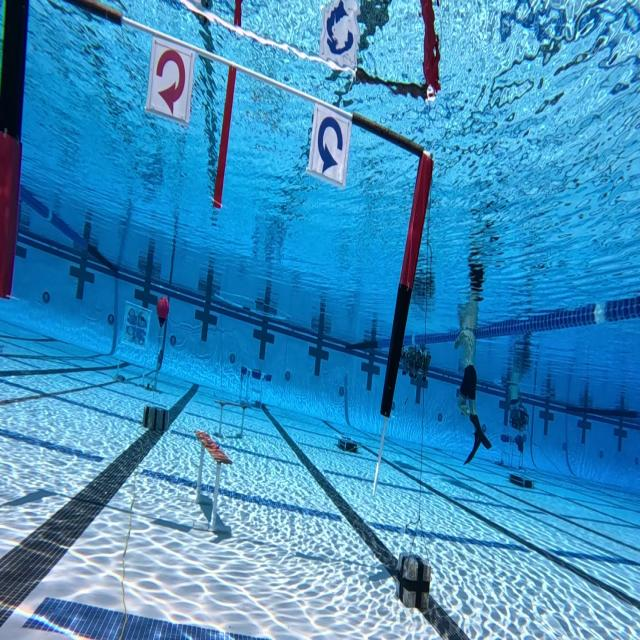blue_side: (308, 102, 354, 185)
red_side: (145, 37, 195, 127)
